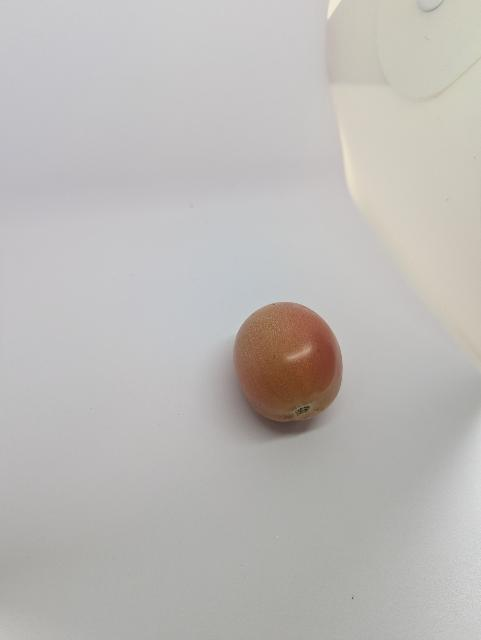turning: (228, 298, 358, 434)
